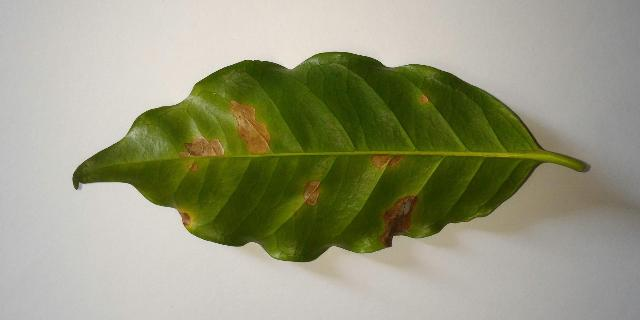cercospora: (230, 101, 270, 154), (380, 194, 418, 248), (180, 135, 225, 158), (370, 152, 403, 170), (302, 180, 321, 206), (176, 208, 195, 230), (187, 162, 198, 171), (419, 94, 429, 103)
